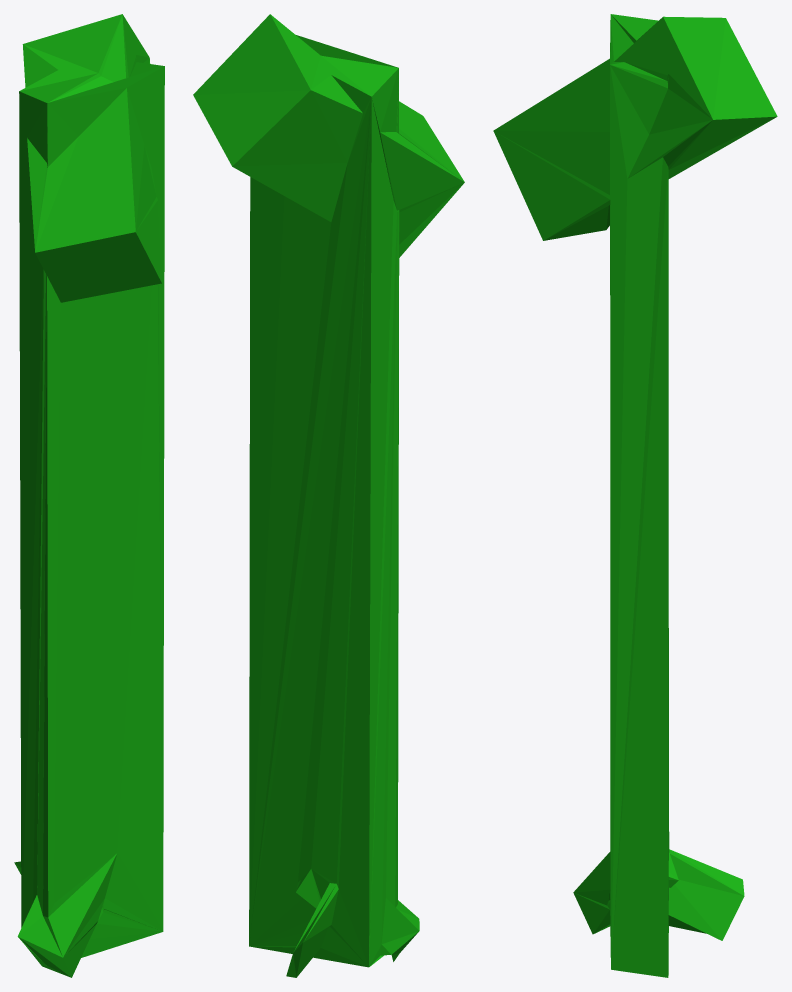
The picture shows the model from 3 angles, left to right: view 1: azimuth 30°, elevation 25°; view 2: azimuth 150°, elevation 25°; view 3: azimuth 270°, elevation 25°; orthographic projection. The views are drawn at different scales.
Visible parts, largest first — view 1: 629_Cube.2531; view 2: 629_Cube.2531; view 3: 629_Cube.2531.
Boxes of the visible parts, x1,y1,x2,y2 form: 629_Cube.2531: [14, 14, 164, 977]; 629_Cube.2531: [193, 14, 464, 977]; 629_Cube.2531: [493, 14, 777, 977].
Bounding box in the file's own units: 2.78 × 12.84 × 3.45.
